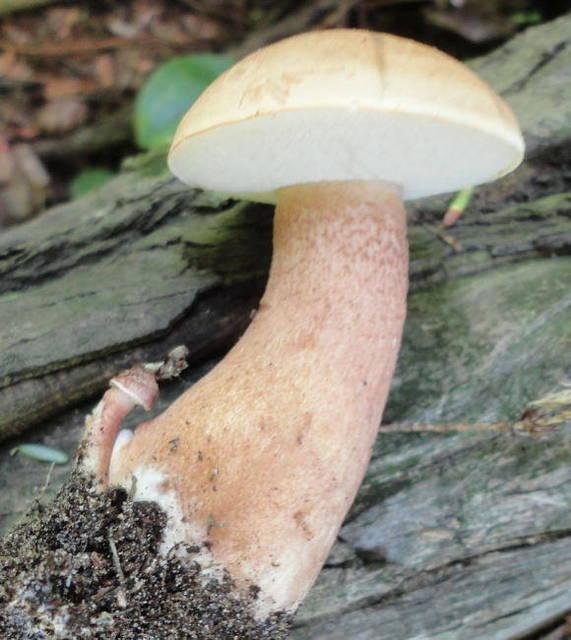Non-edible Mushroom: (87, 25, 526, 634)
